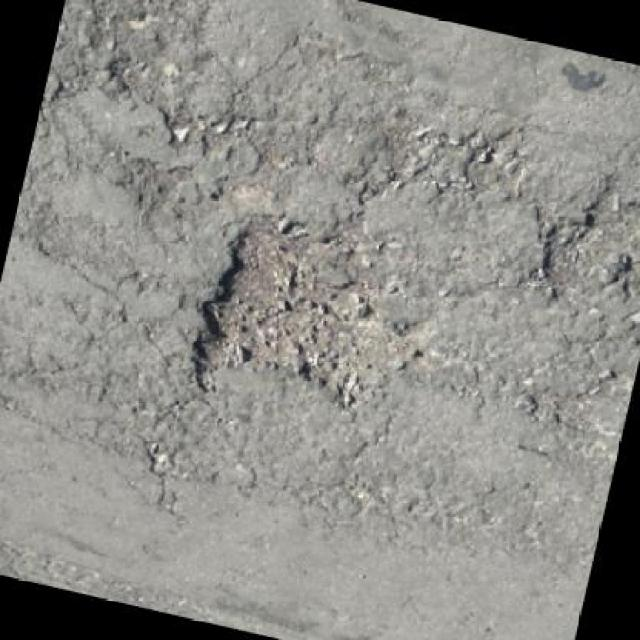pothole: (169, 200, 425, 438), (528, 180, 630, 308)
